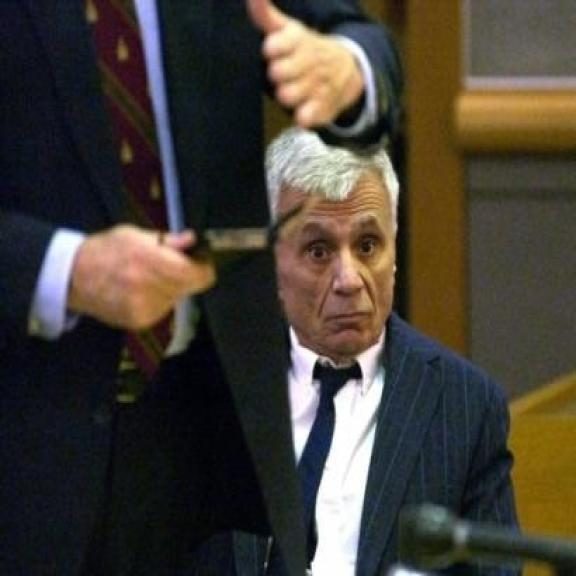face: (273, 170, 403, 350)
